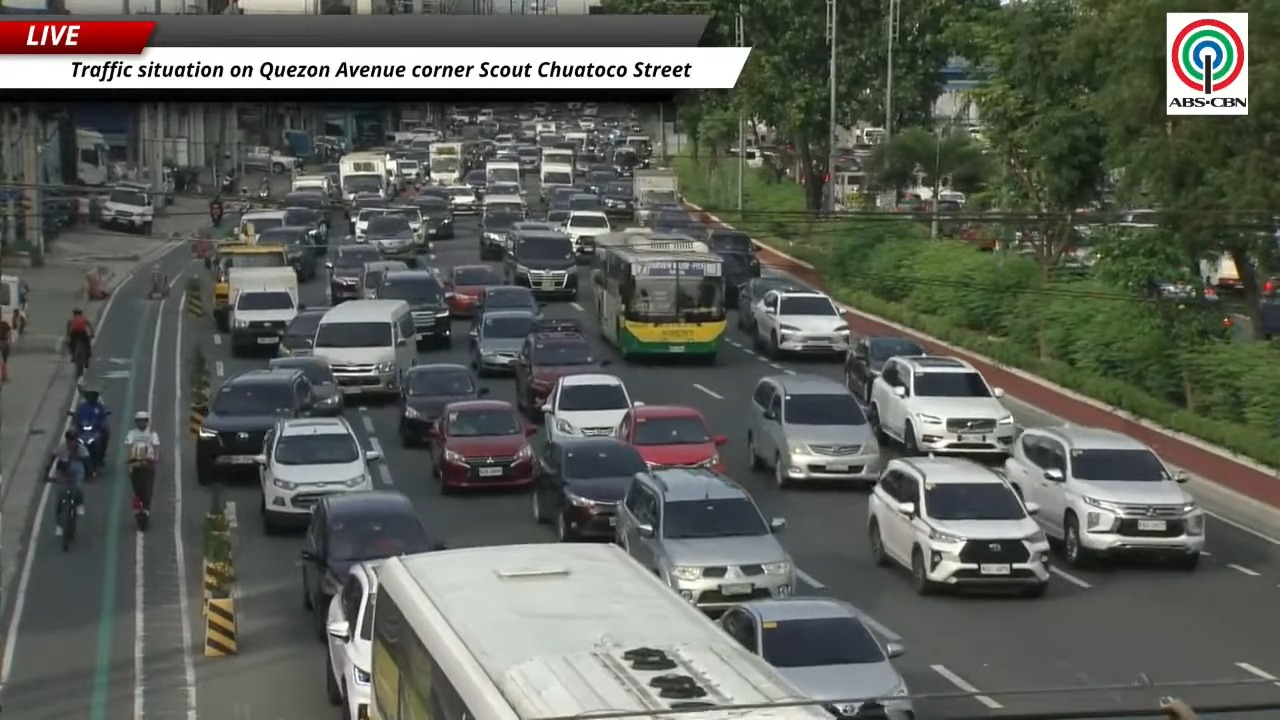bus: (371, 543, 829, 719), (591, 237, 726, 361), (595, 227, 710, 259)
car: (1005, 426, 1205, 569), (615, 468, 795, 610), (868, 456, 1049, 596), (718, 597, 914, 717), (299, 490, 441, 639), (747, 374, 882, 486), (869, 356, 1016, 454), (255, 417, 379, 533), (196, 369, 313, 484), (532, 438, 645, 541), (428, 399, 535, 493), (326, 561, 379, 717), (515, 332, 610, 419), (398, 363, 487, 446), (616, 405, 726, 472), (752, 290, 850, 357), (542, 372, 632, 440), (376, 268, 451, 347), (844, 336, 927, 401), (504, 232, 578, 300), (268, 355, 343, 415), (469, 310, 535, 377), (695, 226, 760, 287), (736, 277, 802, 332), (257, 226, 316, 281), (326, 244, 380, 304), (446, 264, 504, 317), (564, 195, 611, 255), (363, 210, 416, 257), (278, 307, 328, 356), (472, 285, 540, 321), (717, 252, 760, 308), (284, 201, 328, 254), (479, 213, 522, 260), (411, 194, 454, 240), (387, 205, 430, 250), (359, 259, 407, 299), (642, 203, 703, 233), (352, 203, 386, 243), (600, 181, 633, 217), (587, 168, 616, 206), (530, 317, 584, 336), (445, 185, 480, 213), (412, 186, 451, 208), (351, 192, 387, 213), (546, 187, 579, 209), (463, 168, 487, 198), (569, 192, 602, 211), (512, 220, 558, 232), (487, 182, 523, 196)
motorcycle: (71, 392, 110, 476), (129, 441, 155, 531), (209, 201, 223, 226), (220, 173, 236, 192), (257, 178, 270, 198)
truck: (326, 543, 832, 719), (209, 238, 292, 331), (227, 267, 298, 355), (633, 169, 679, 224), (339, 152, 388, 201), (75, 127, 109, 186), (429, 142, 462, 185), (485, 162, 520, 184)
